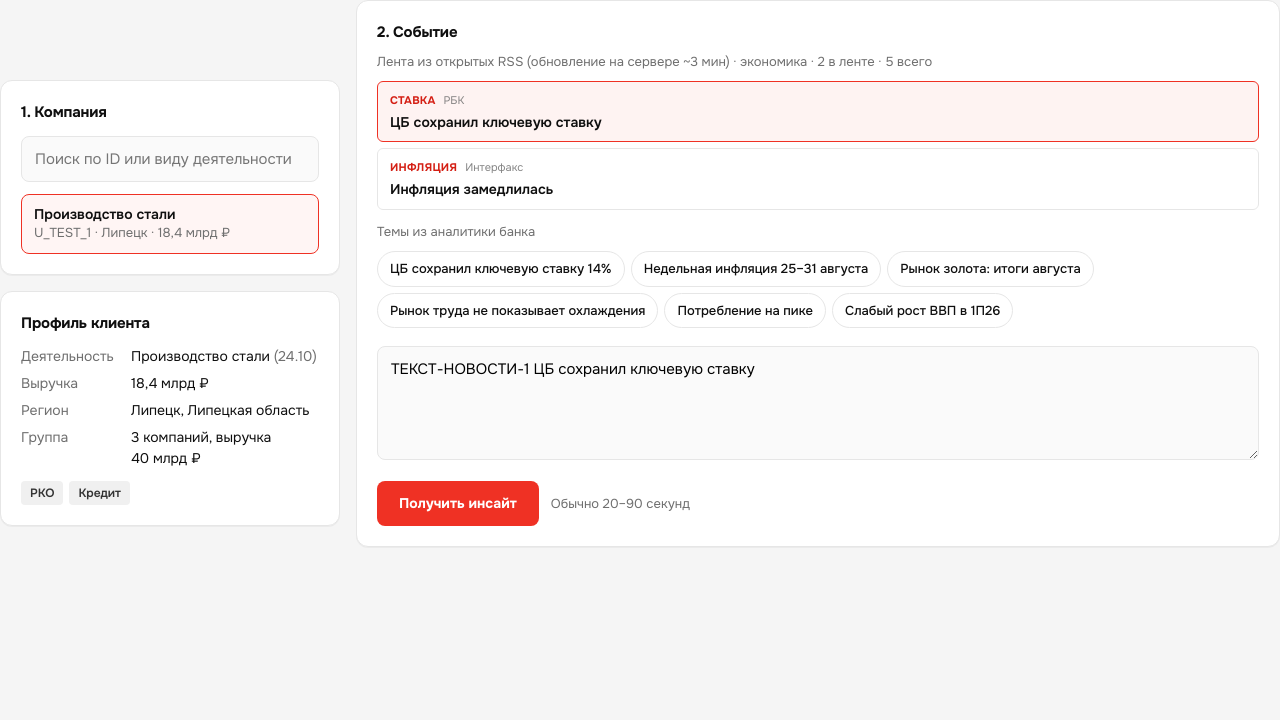
Scenario: Workspace › runs the agent for the selected company with the chosen news text
The image size is (1280, 720).
Expected: the text "Производство стали" is shown, [34,205,176,223]
Click the button "Получить инсайт".
click(458, 503)  # box [377,481,539,526]
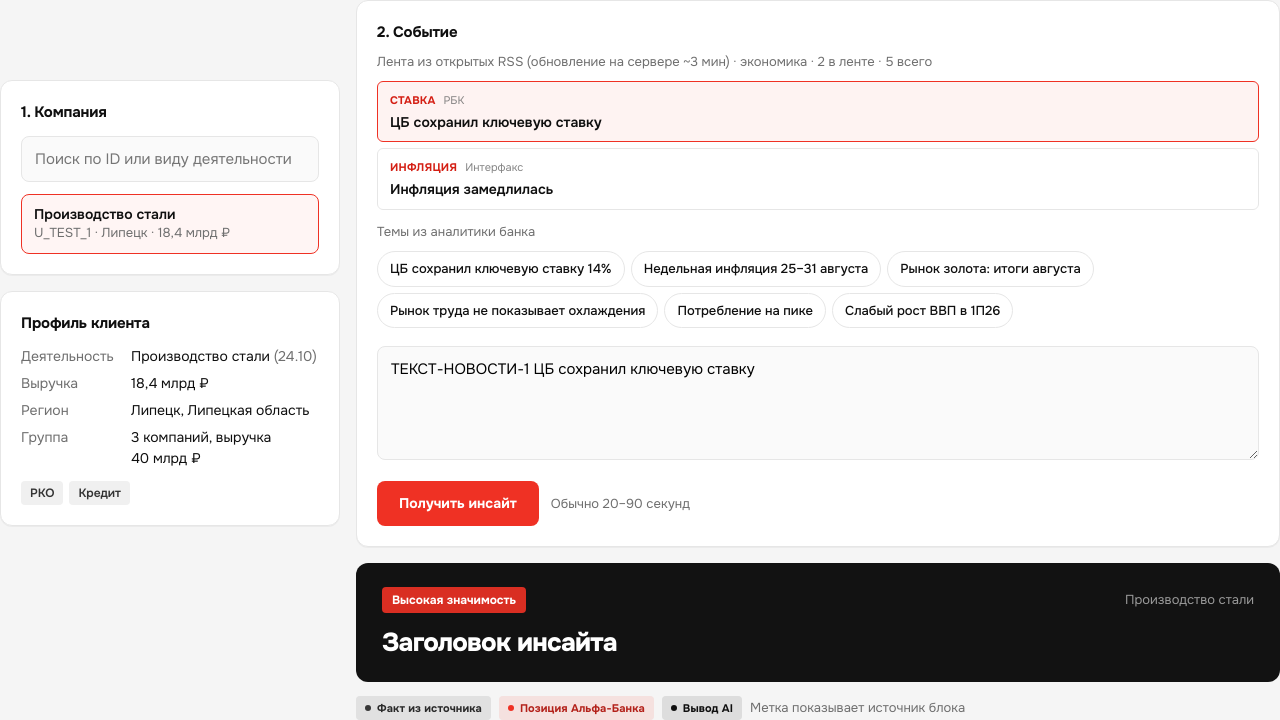
Now the heading "Заголовок инсайта" is shown, box [382,626,617,659]
